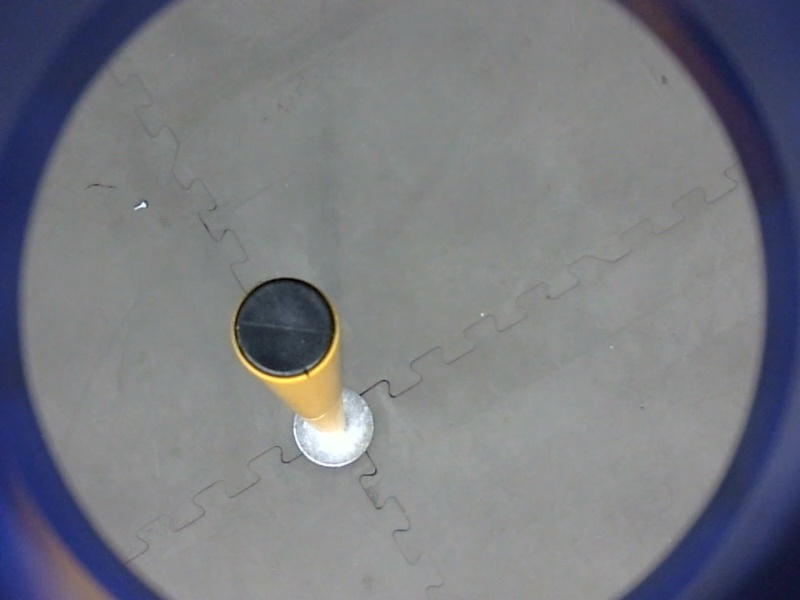tip: (224, 270, 345, 388)
